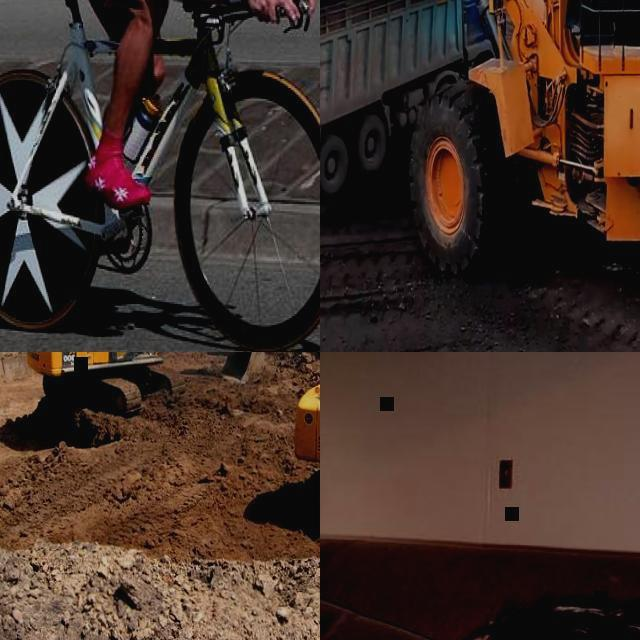machinery: (320, 0, 640, 336), (320, 0, 500, 207), (24, 352, 265, 415)
person: (25, 0, 316, 207), (320, 460, 640, 640)
